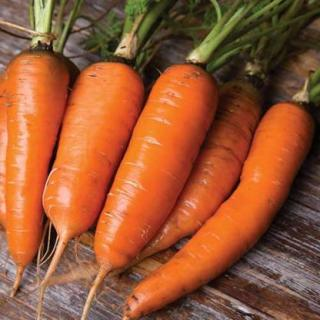Wortel: (95, 66, 224, 274), (46, 57, 149, 242), (3, 50, 70, 274)
